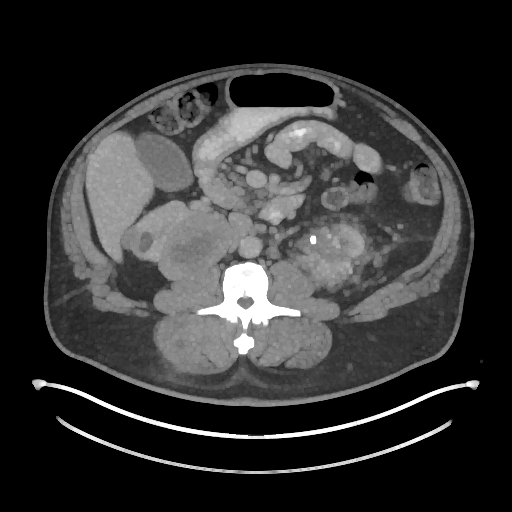Lesion: (160, 211, 239, 279)
